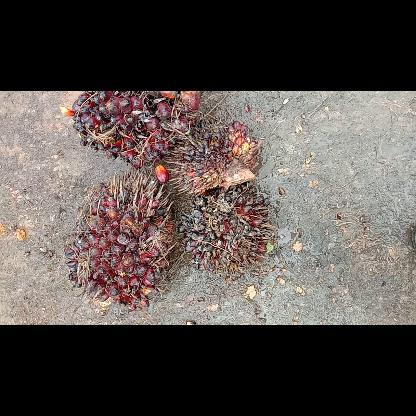Kurang masak: (61, 90, 200, 166)
TBS abnormal: (177, 181, 277, 272), (166, 119, 260, 194)
TBS masak: (65, 168, 175, 310)
